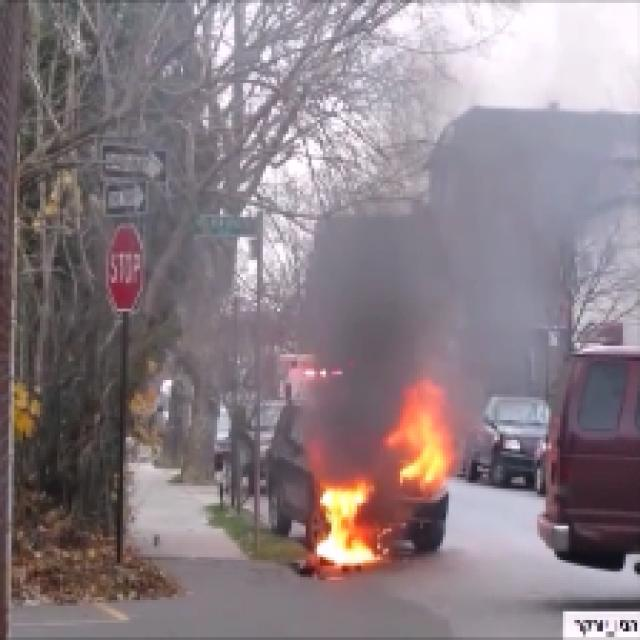fire: (394, 380, 454, 492), (320, 479, 384, 581)
smoke: (307, 66, 583, 370)
